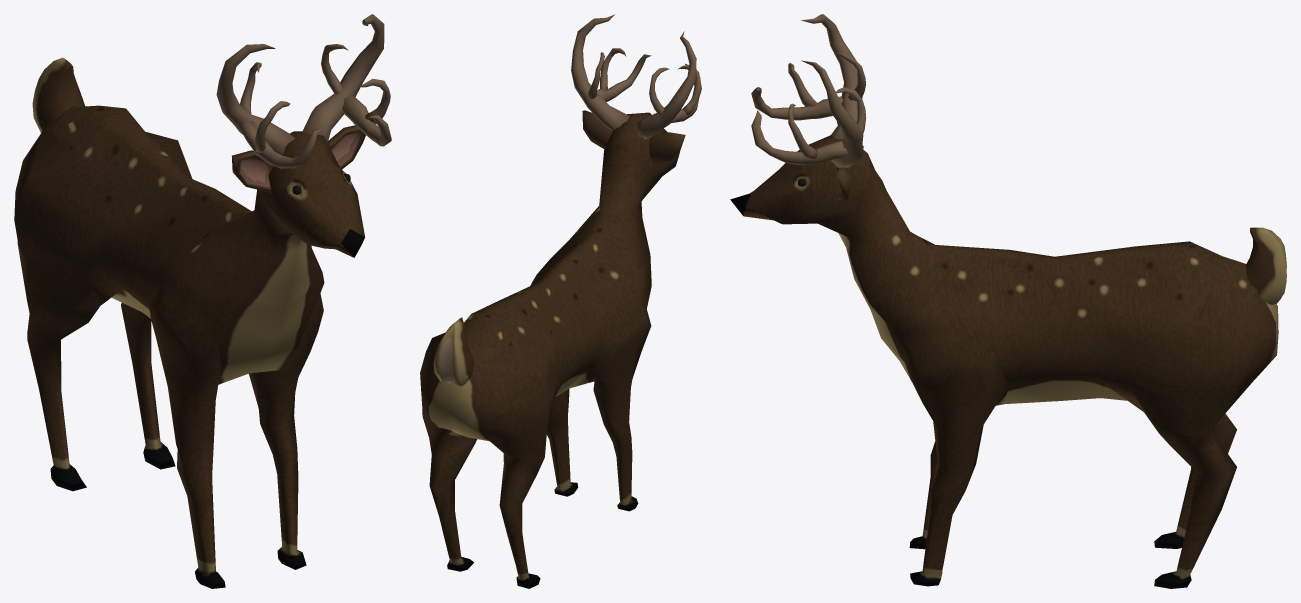
Rendered from Deer.fbx.
The picture shows the model from 3 angles, left to right: view 1: azimuth 30°, elevation 25°; view 2: azimuth 150°, elevation 25°; view 3: azimuth 270°, elevation 25°; orthographic projection. The views are drawn at different scales.
Parts seen in each view (by area): view 1: pCube7; view 2: pCube7; view 3: pCube7.
Part boxes in pixels (left/top/right/bottom): pCube7: left=14, top=14, right=391, bottom=588; pCube7: left=420, top=14, right=701, bottom=588; pCube7: left=730, top=14, right=1286, bottom=588.
Size of the model in its own units: 33.13 by 110 by 106.
